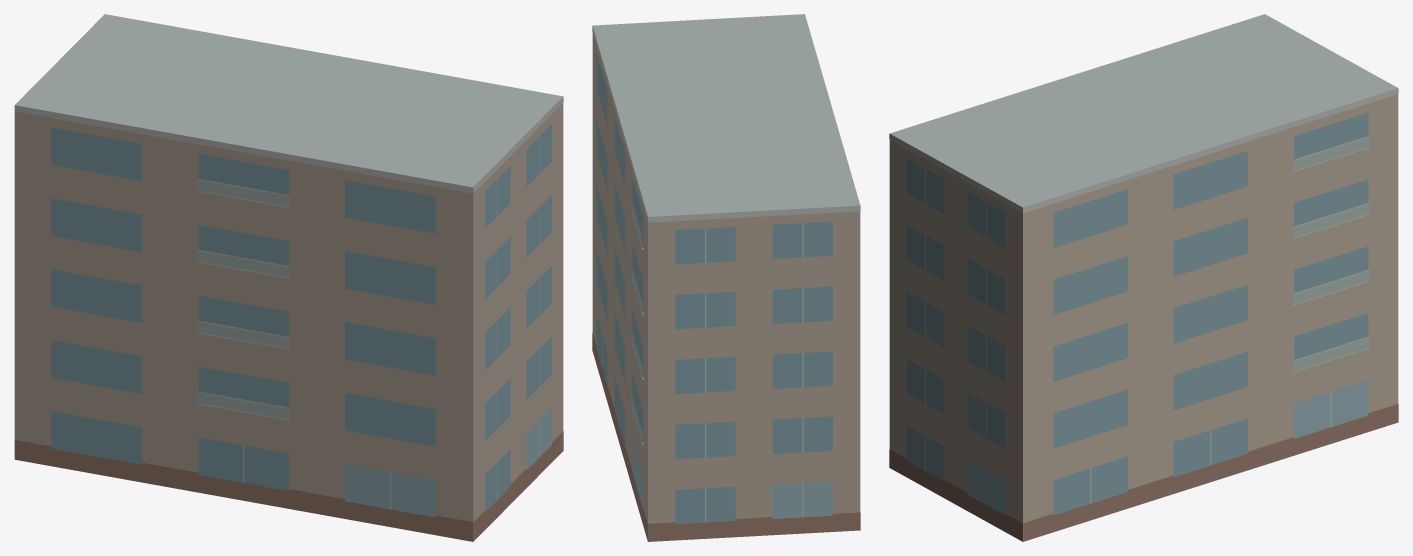
File: survey-upis-32586751.glb
The picture shows the model from 3 angles, left to right: view 1: azimuth 30°, elevation 25°; view 2: azimuth 150°, elevation 25°; view 3: azimuth 270°, elevation 25°; orthographic projection. The views are drawn at different scales.
Parts seen in each view (by area): view 1: survey-upis-32586751.tmp; view 2: survey-upis-32586751.tmp; view 3: survey-upis-32586751.tmp.
Part boxes in pixels (left/top/right/bottom): survey-upis-32586751.tmp: left=14, top=14, right=563, bottom=541; survey-upis-32586751.tmp: left=592, top=14, right=860, bottom=541; survey-upis-32586751.tmp: left=889, top=14, right=1398, bottom=541.
Size of the model in its own units: 17.4 by 14 by 19.32.
